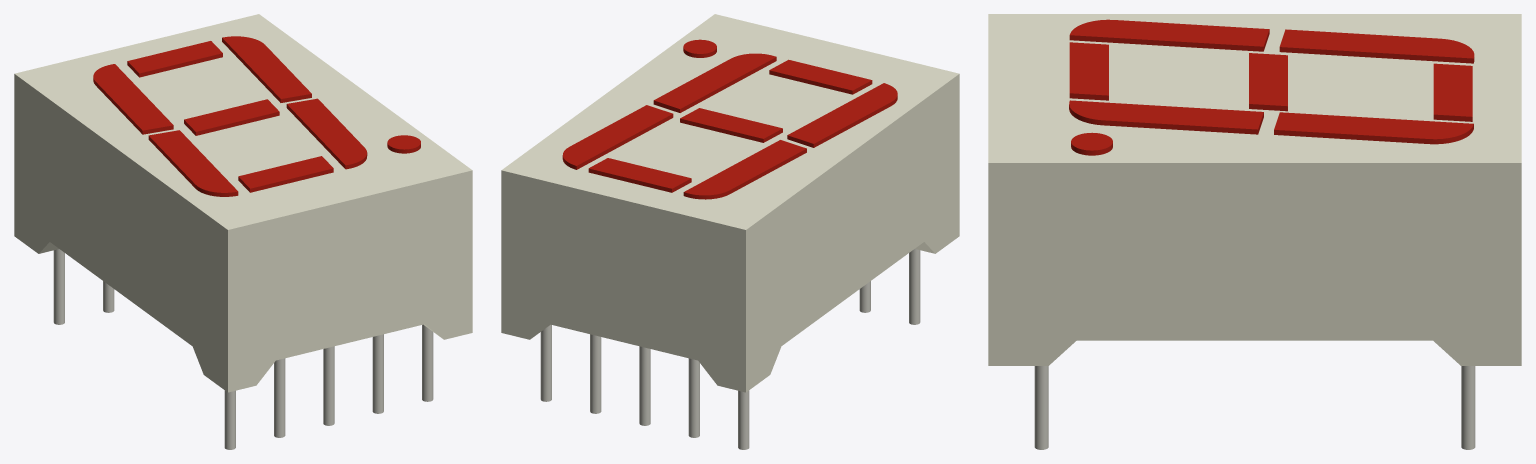
File: seven-segment.glb
3 renders of one model, left to right at view 1: azimuth 30°, elevation 25°; view 2: azimuth 150°, elevation 25°; view 3: azimuth 270°, elevation 25°, orthographic. The views are drawn at different scales.
Parts seen in each view (by area): view 1: seven-segment; view 2: seven-segment; view 3: seven-segment.
Part boxes in pixels (left/top/right/bottom): seven-segment: left=14, top=14, right=472, bottom=449; seven-segment: left=501, top=14, right=959, bottom=449; seven-segment: left=988, top=14, right=1521, bottom=449.
Bounding box in the file's own units: 12.6 × 11.96 × 19.05.
